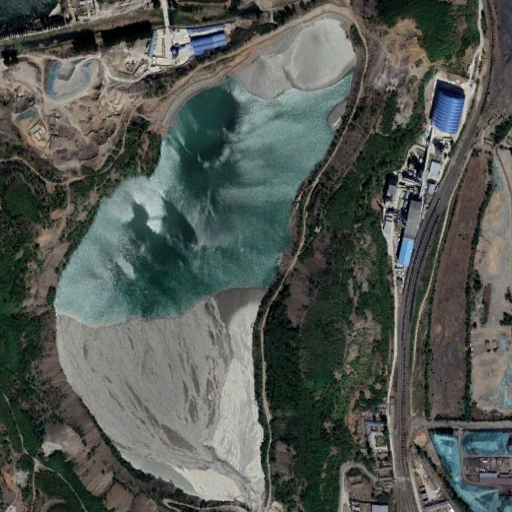tp: (54, 14, 368, 510)
